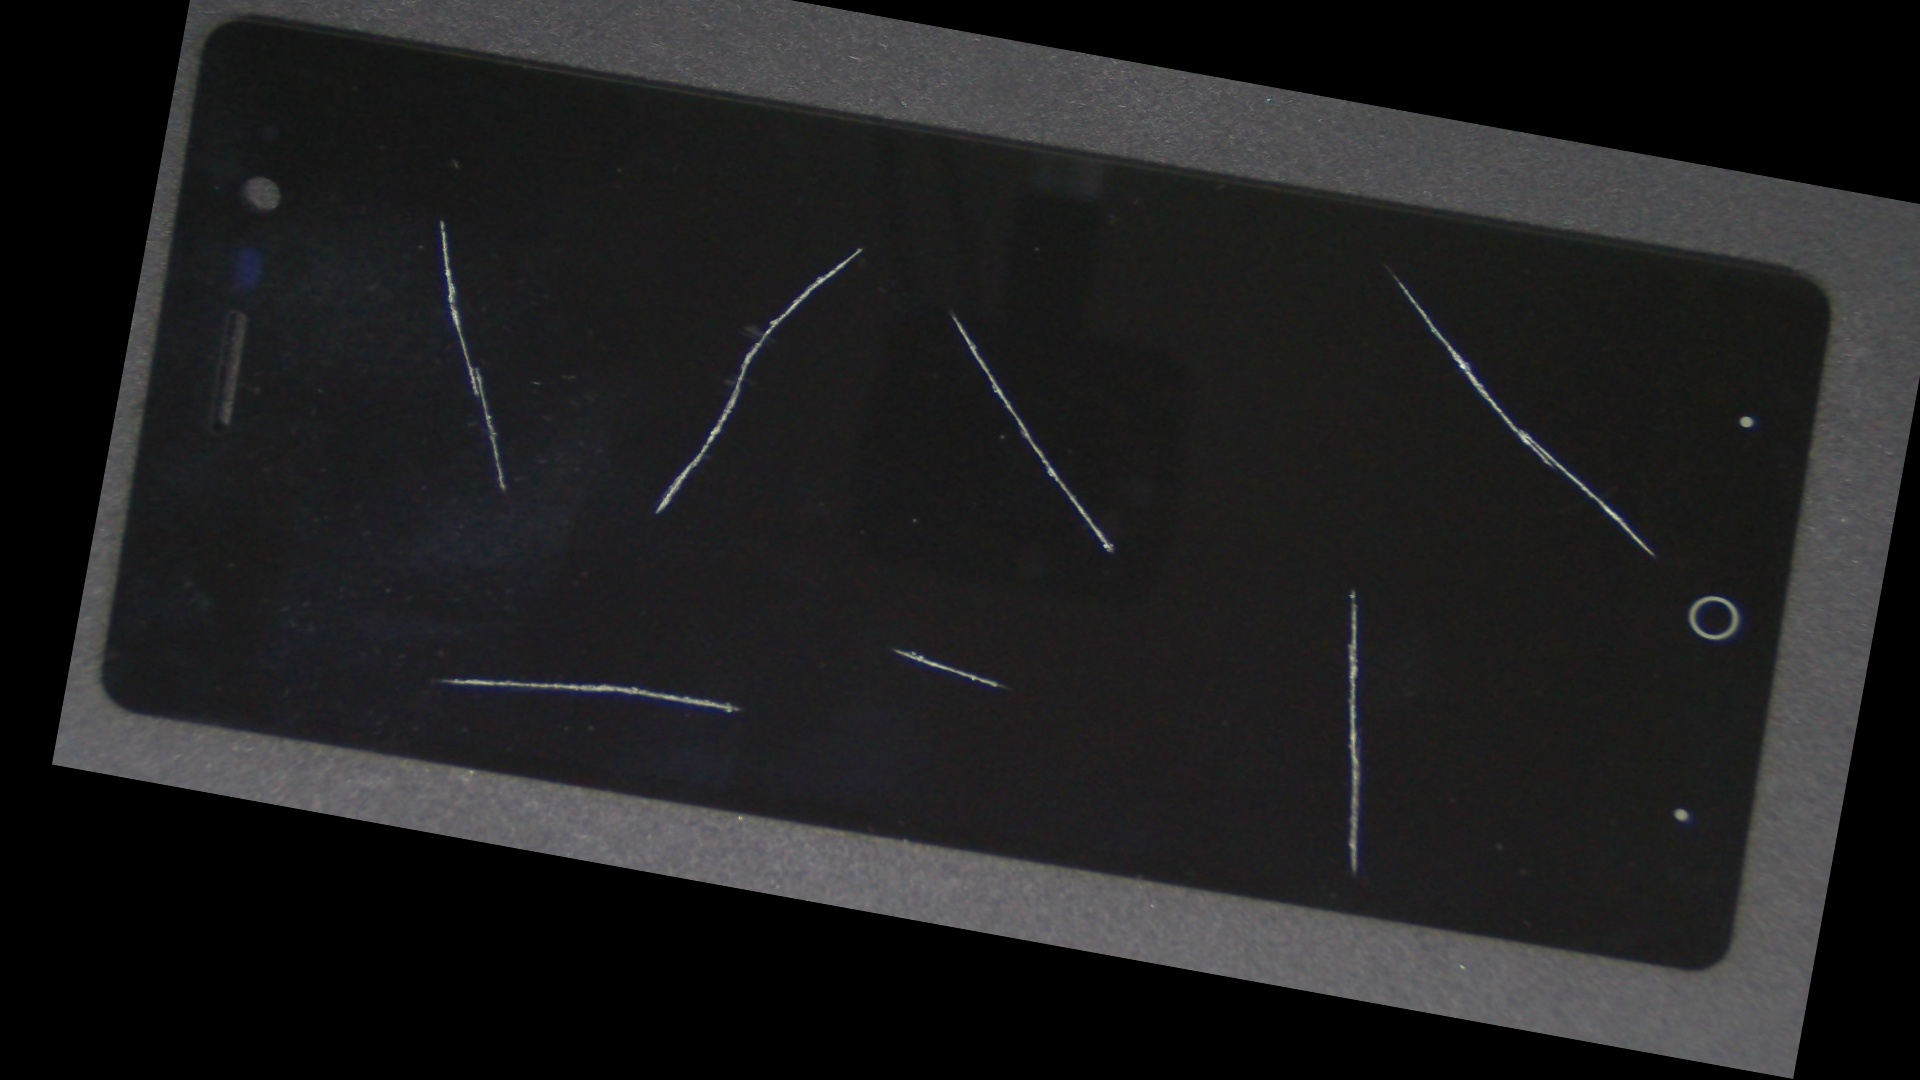oil: (696, 241, 1908, 918), (448, 270, 1342, 980), (375, 297, 1110, 939), (770, 79, 1920, 436), (531, 104, 1374, 525), (495, 71, 1229, 423), (276, 57, 607, 381)
